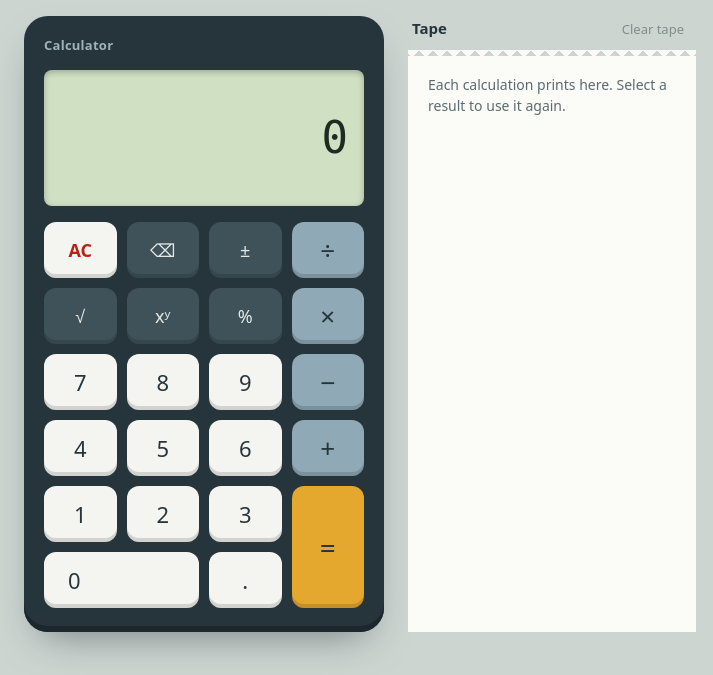
Calculator › shows the API error and lets the person correct the divisor
Click the button "8" at x=163, y=382, box [126,354,199,410]
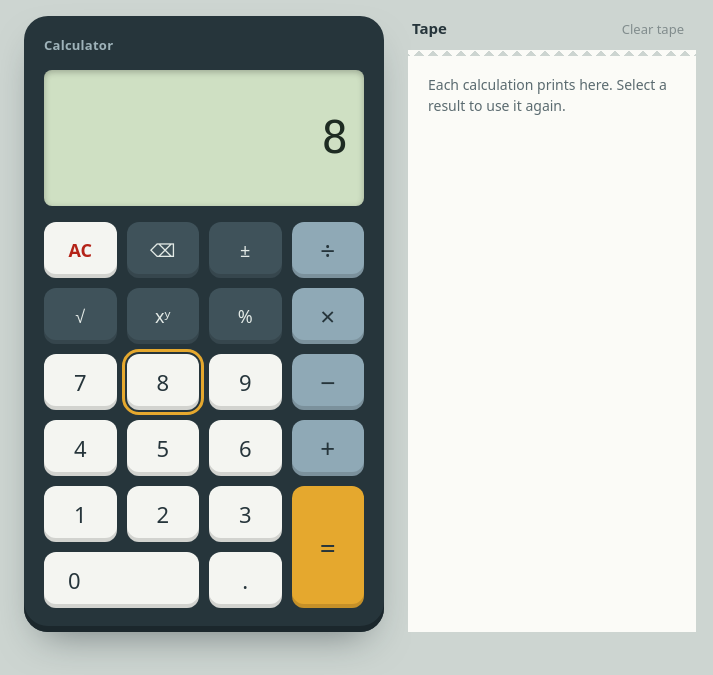
Click the button named "Divide" at x=328, y=250, box [292,222,364,278]
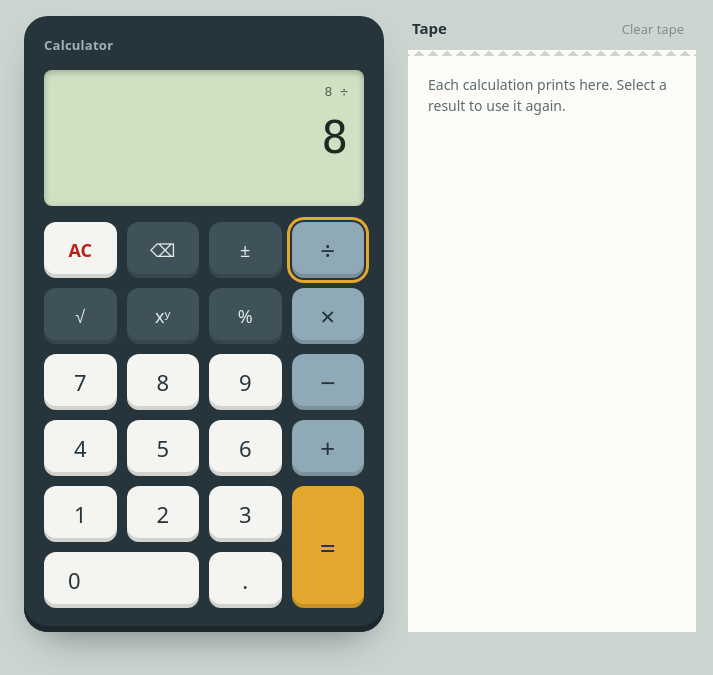
Click the button "0" at x=122, y=580, box [44,552,199,608]
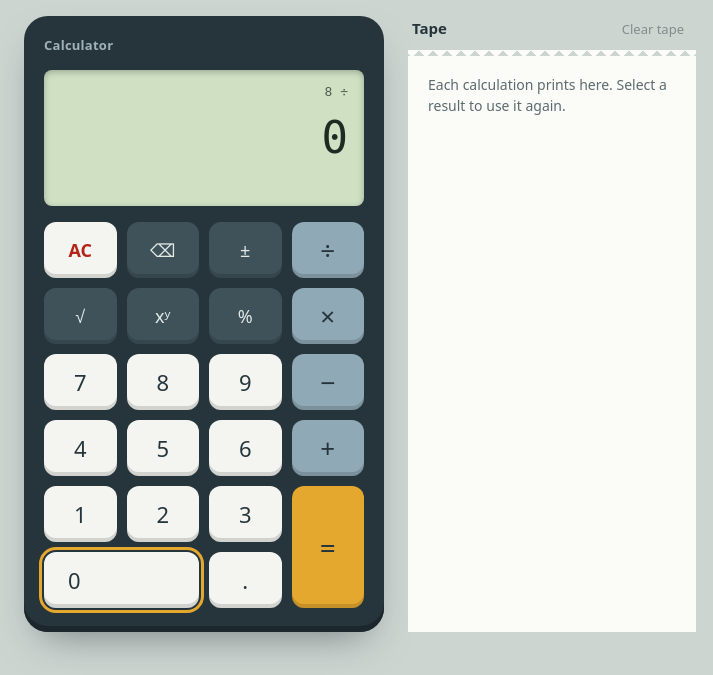
Click the button named "Equals" at x=328, y=547, box [292,486,364,608]
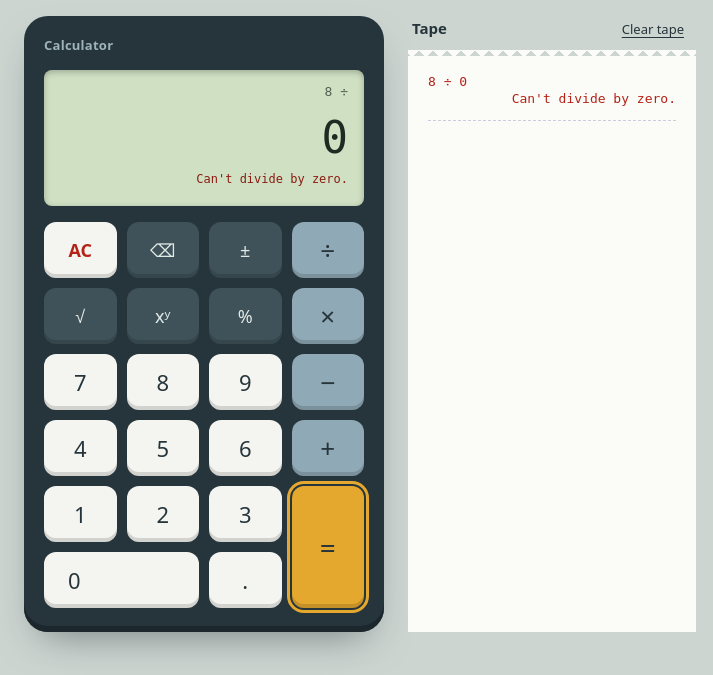
Now the text with test id "message" reads "Can't divide by zero.", box [196,172,348,186]
Now the 1st text "Can't divide by zero." is shown, box [512,91,676,106]
Click the button "2" at x=163, y=514, box [126,486,199,542]
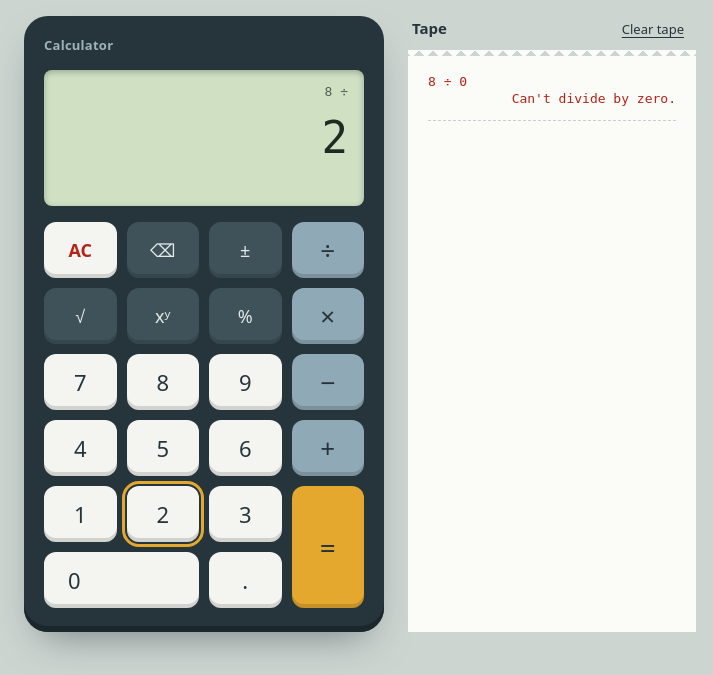
Click the button named "Equals" at x=328, y=547, box [292,486,364,608]
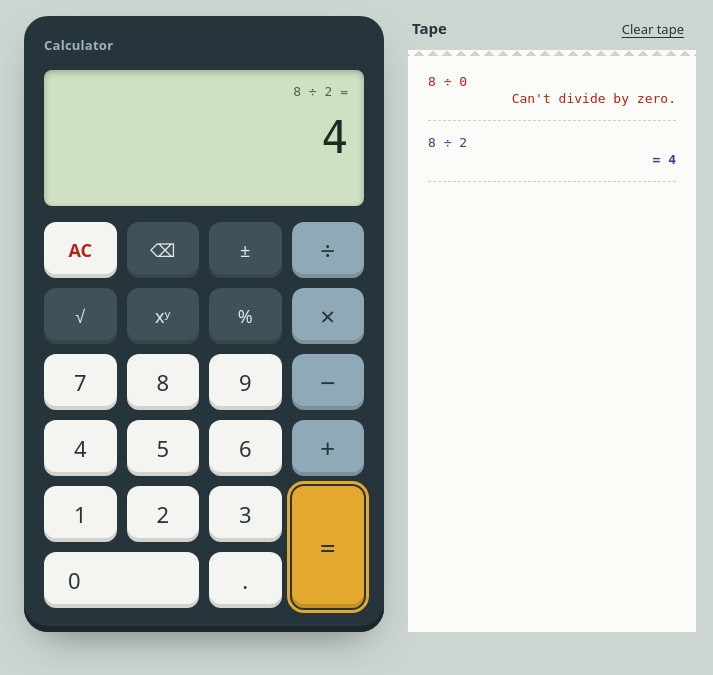
Expected: the element with test id "message" is empty, [60,172,348,196]
Now the text named "Result" reads "4", box [322,112,348,163]
